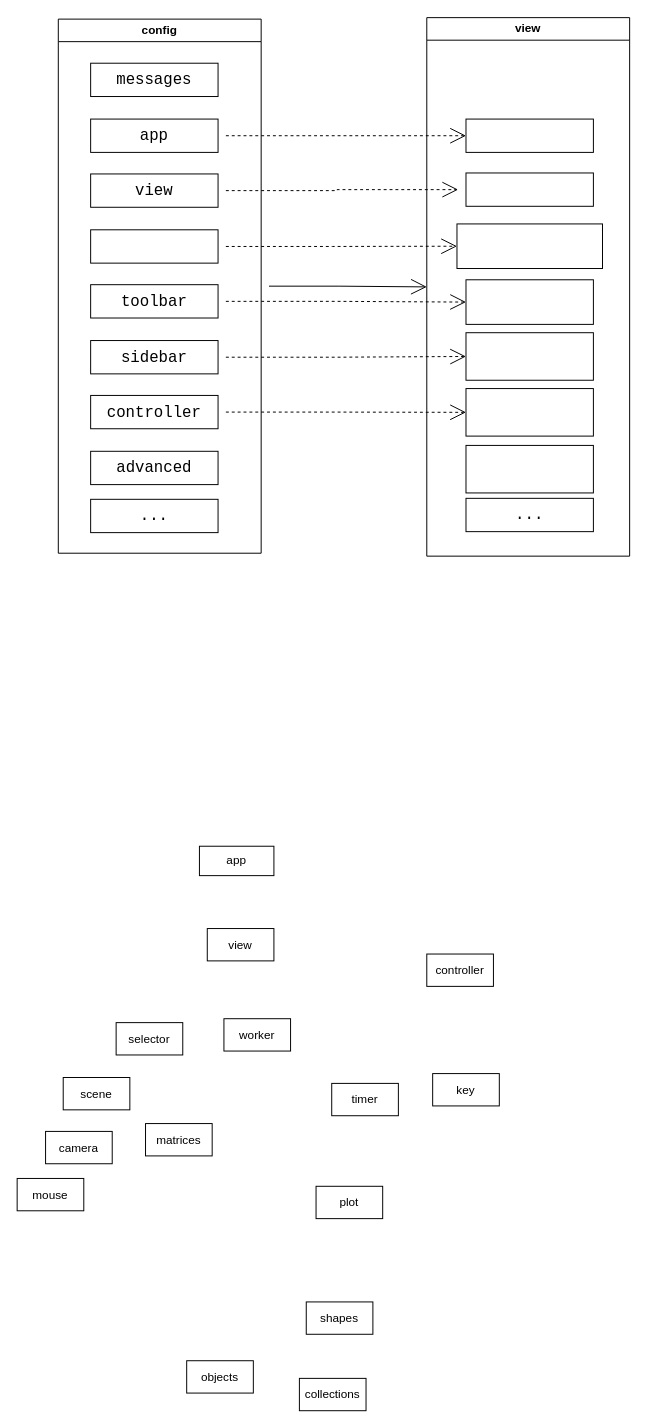
This 647x1428 diagram has some shape labels left out. The box of each missing label's shape, as (x1, y1, x2, y2) in pixels:
App (app_config): (465, 118, 593, 152)
controller (controller_config): (465, 388, 593, 436)
menubar: (90, 229, 218, 263)
menubar (menubar_config): (456, 223, 603, 269)
sidebar ( sidebar_config): (465, 332, 593, 380)
sidedocks (sidedocks_config): (465, 444, 593, 493)
toolbar (toolbar_config): (465, 279, 593, 324)
View (view_config): (465, 172, 593, 206)
